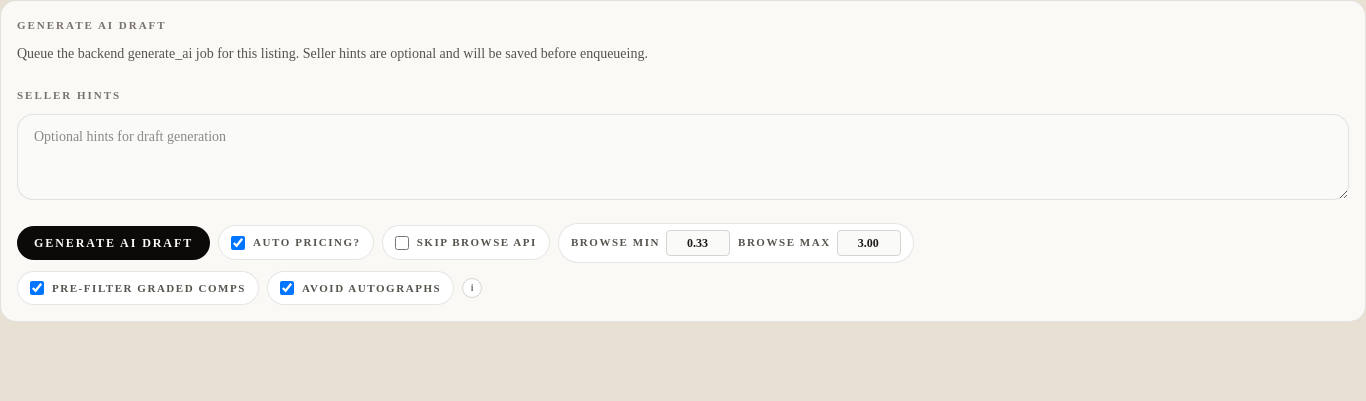
it: ListingGenerateControls › shows enqueue errors
Click the button "Generate AI Draft": {"x": 114, "y": 242} [17, 226, 210, 260]
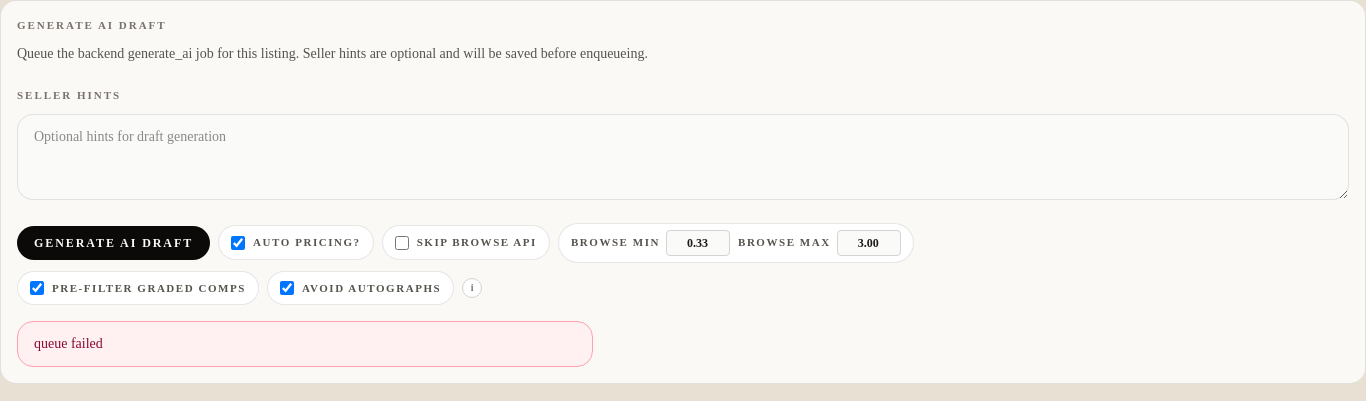
Expected: the text "queue failed" is shown, [17, 321, 593, 367]
